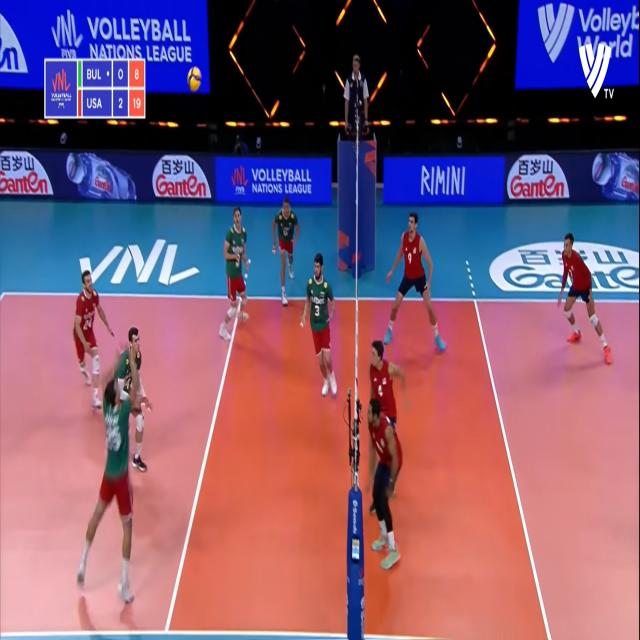player: (93, 374, 142, 606), (385, 208, 448, 359), (554, 232, 618, 369), (364, 396, 403, 576), (70, 267, 111, 418), (117, 324, 152, 478), (221, 202, 253, 342), (309, 257, 339, 400), (369, 338, 410, 425), (272, 197, 303, 311)
